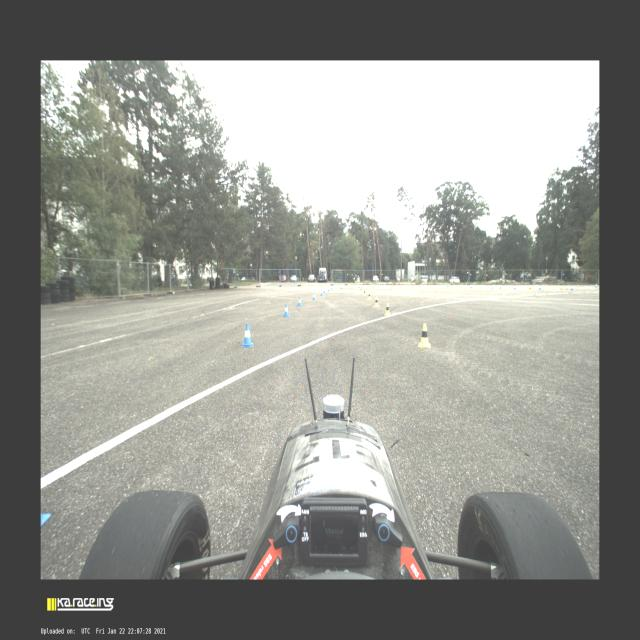blue_cone: (241, 323, 254, 348), (284, 304, 290, 316), (297, 296, 303, 306), (312, 292, 316, 300), (320, 290, 324, 296), (570, 284, 574, 290), (538, 284, 542, 290), (328, 286, 330, 292), (323, 288, 325, 294), (514, 284, 516, 289), (491, 284, 493, 288), (378, 284, 380, 288), (330, 286, 332, 290), (340, 285, 342, 289), (358, 284, 360, 288), (396, 284, 398, 288), (419, 284, 421, 288), (595, 284, 597, 288)
yellow_cone: (418, 324, 431, 348), (384, 302, 392, 316), (374, 296, 379, 308), (368, 292, 372, 300), (528, 286, 532, 292), (498, 285, 502, 291), (469, 285, 472, 290), (364, 289, 366, 295), (447, 284, 449, 288), (372, 284, 374, 288), (392, 284, 394, 288), (360, 288, 362, 292), (418, 284, 420, 288), (361, 286, 363, 290)
